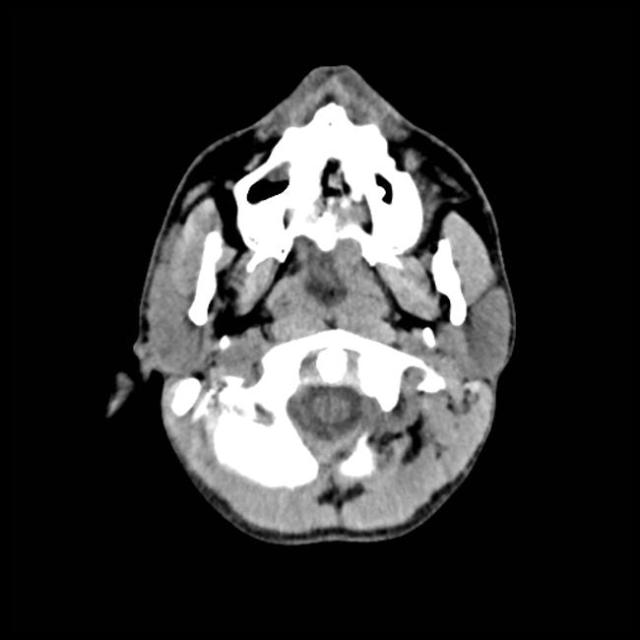lesion: (114, 64, 521, 548)
